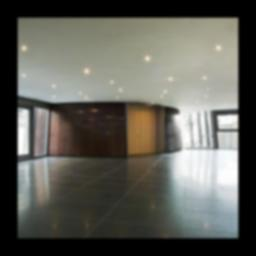Puerta: (127, 106, 162, 153)
